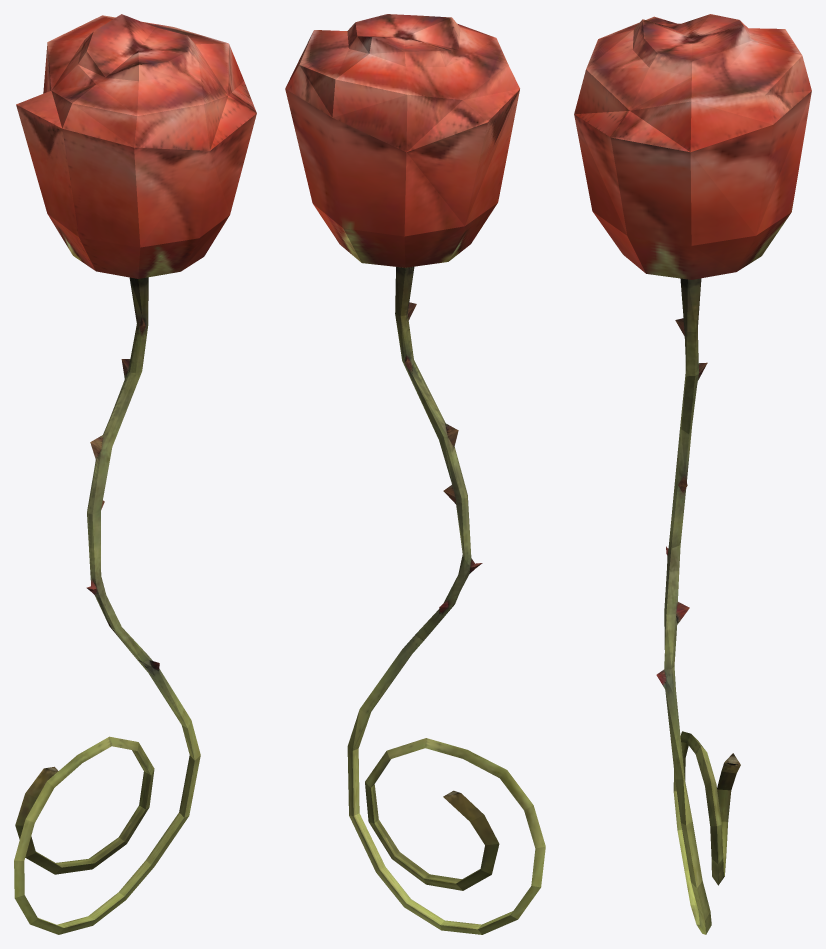
The model's file is INJ-GAU_iOS_WEAPON_Harley_Quinn's_Rose_Injustice.obj.
3 views of the same model, side by side, from view 1: azimuth 30°, elevation 25°; view 2: azimuth 150°, elevation 25°; view 3: azimuth 270°, elevation 25° (orthographic). The views are drawn at different scales.
Bounding box in the file's own units: 0.0754 × 0.2693 × 0.0622.
Materials: 1 (1 with a texture image).
